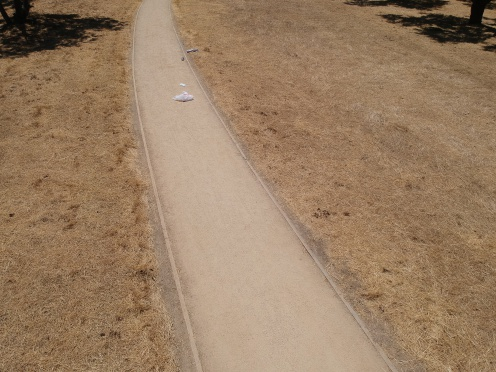plastic bag: (171, 88, 197, 105)
